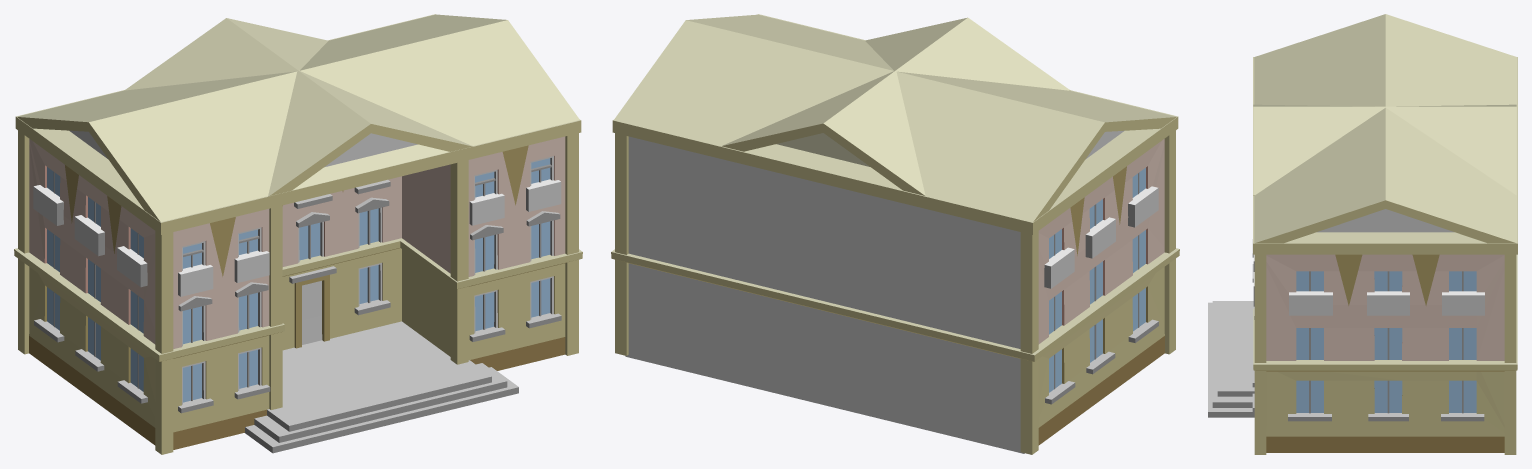
File: house_art_007.fbx
3 views of the same model, side by side, from view 1: azimuth 30°, elevation 25°; view 2: azimuth 150°, elevation 25°; view 3: azimuth 270°, elevation 25° (orthographic). The views are drawn at different scales.
Visible parts, largest first — view 1: house_art_007; view 2: house_art_007; view 3: house_art_007.
Part boxes in pixels (box(x1,y1,x2,y2)): house_art_007: box(14, 14, 582, 454); house_art_007: box(611, 14, 1179, 454); house_art_007: box(1208, 14, 1517, 454).
Size of the model in its own units: 1529 by 978 by 1063.
